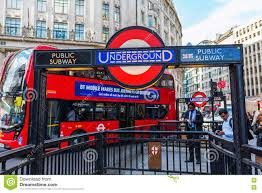London Underground: (95, 25, 170, 89), (191, 90, 209, 106)
